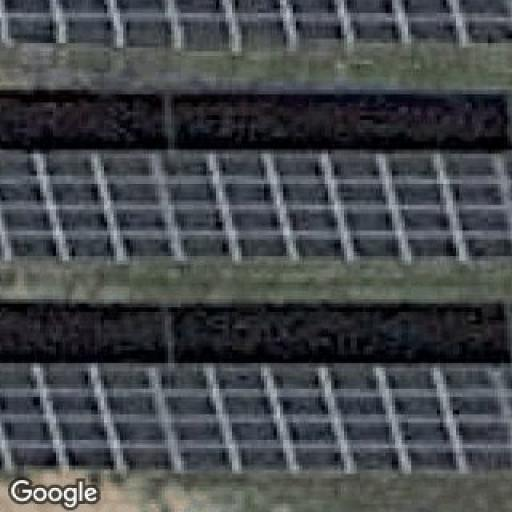solar-panel: (0, 150, 512, 261), (0, 363, 512, 474), (0, 0, 512, 46)
